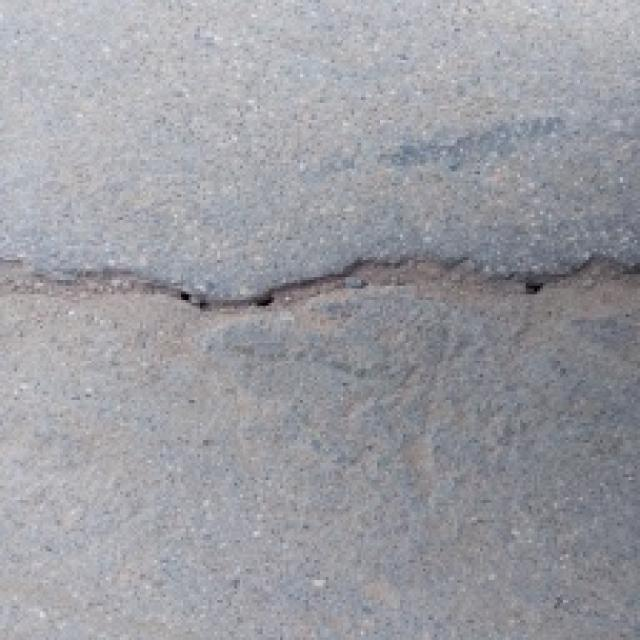SurfaceCrack: (2, 216, 640, 366)
